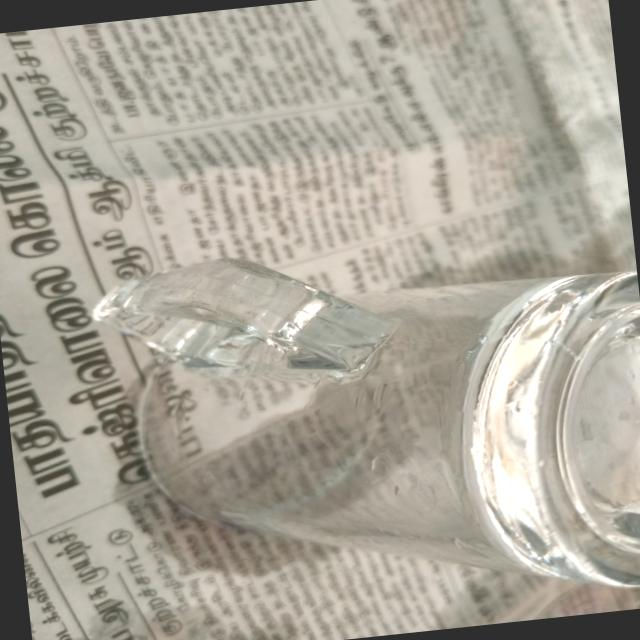glass-VX4N: (87, 215, 640, 640)
